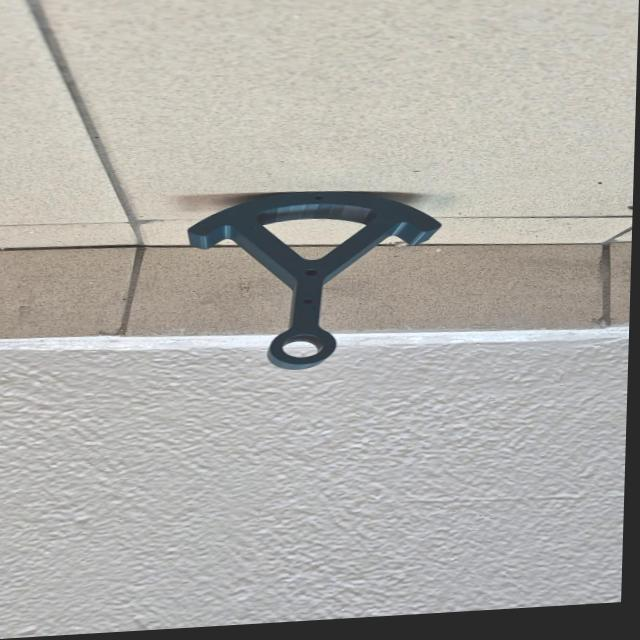haptic: (181, 181, 444, 379)
